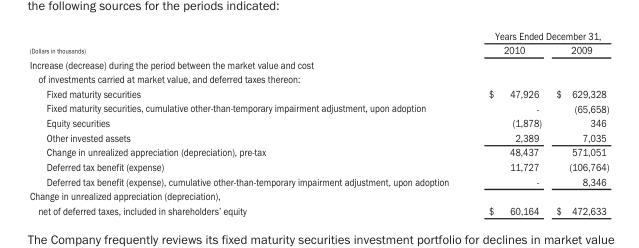table: (28, 28, 608, 217)
table column: (28, 28, 468, 217), (468, 28, 548, 217), (548, 28, 608, 217)
table column header: (28, 28, 608, 57)
table projected row header: (28, 71, 608, 86), (28, 188, 608, 203), (28, 57, 608, 71)
table row: (28, 42, 608, 57), (28, 71, 608, 86), (28, 100, 608, 115), (28, 115, 608, 130), (28, 144, 608, 159), (28, 159, 608, 174), (28, 188, 608, 203), (28, 28, 608, 42), (28, 57, 608, 71), (28, 86, 608, 100), (28, 130, 608, 144), (28, 174, 608, 188), (28, 203, 608, 217)
table spanning cell: (28, 28, 468, 57), (468, 28, 608, 42)
